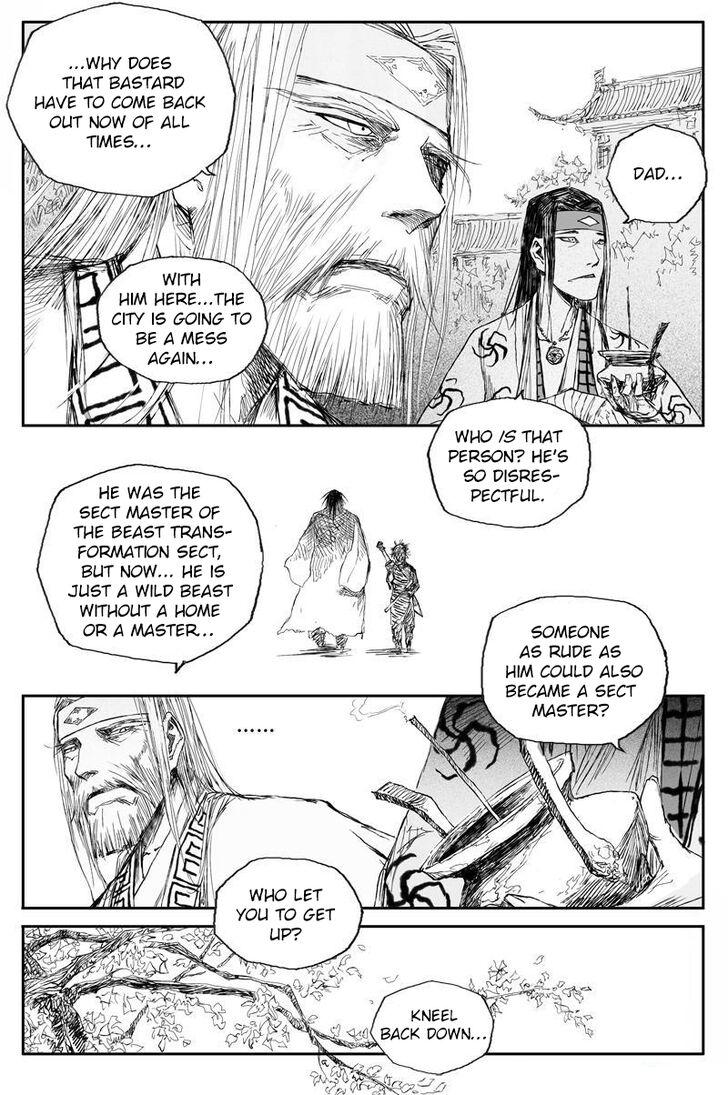Bubble: (34, 463, 266, 665), (4, 1, 238, 199), (479, 594, 669, 746), (94, 255, 269, 386), (425, 396, 593, 530), (212, 856, 365, 971), (369, 979, 496, 1076), (607, 123, 710, 225)
